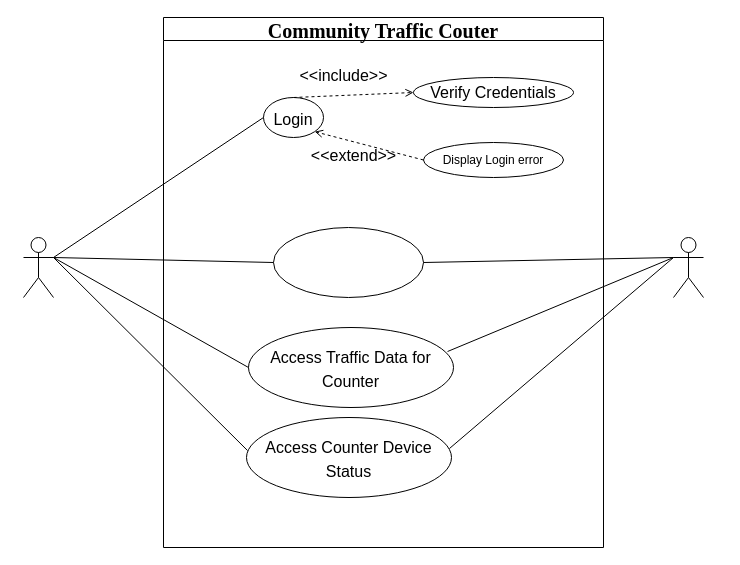
The diagram is 740 pixels wide and 565 high, and some of its shapes have lost their labels. Here are the shapes that lost their labels. From the top down, the centre of each, then its label:
At point 38,267: "User".
At point 348,262: "Find Counters' Location on Map".
At point 688,267: "Database".
